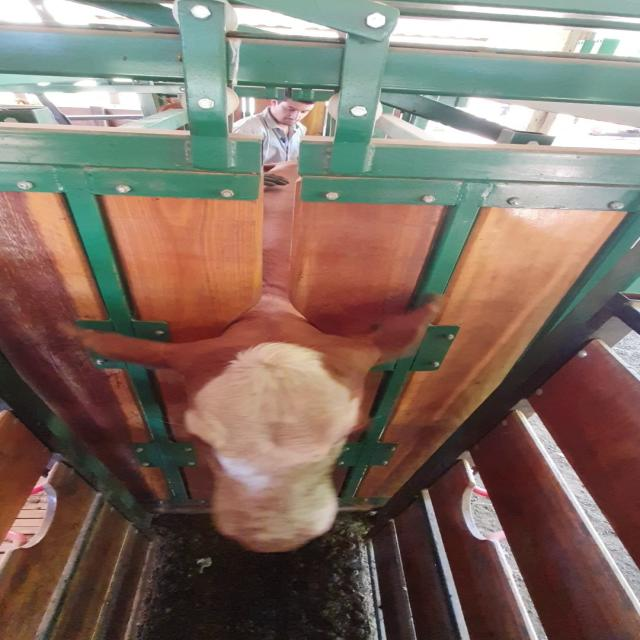cowFace: (185, 334, 362, 552)
